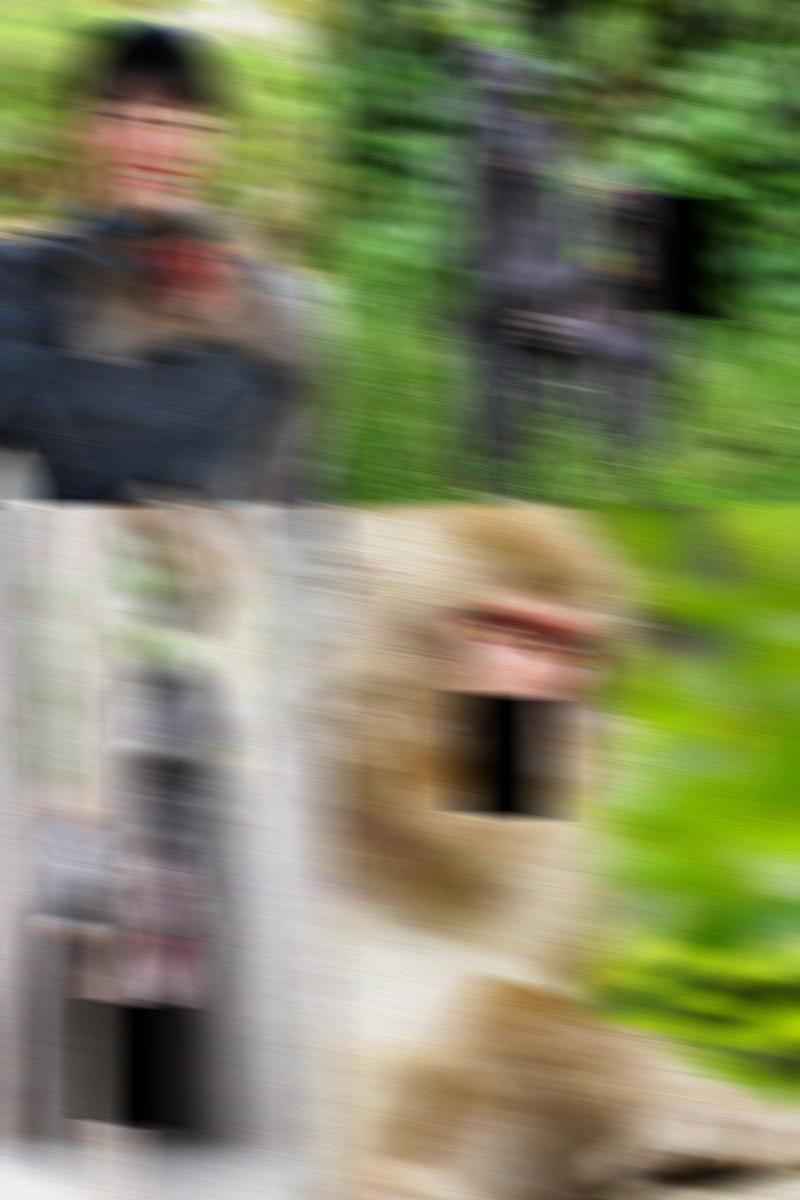Macaca fuscata: (319, 502, 800, 1200), (69, 198, 337, 505)
chimpanzee: (16, 655, 311, 1200), (443, 37, 580, 485), (568, 166, 692, 490)
human: (0, 18, 337, 505)
